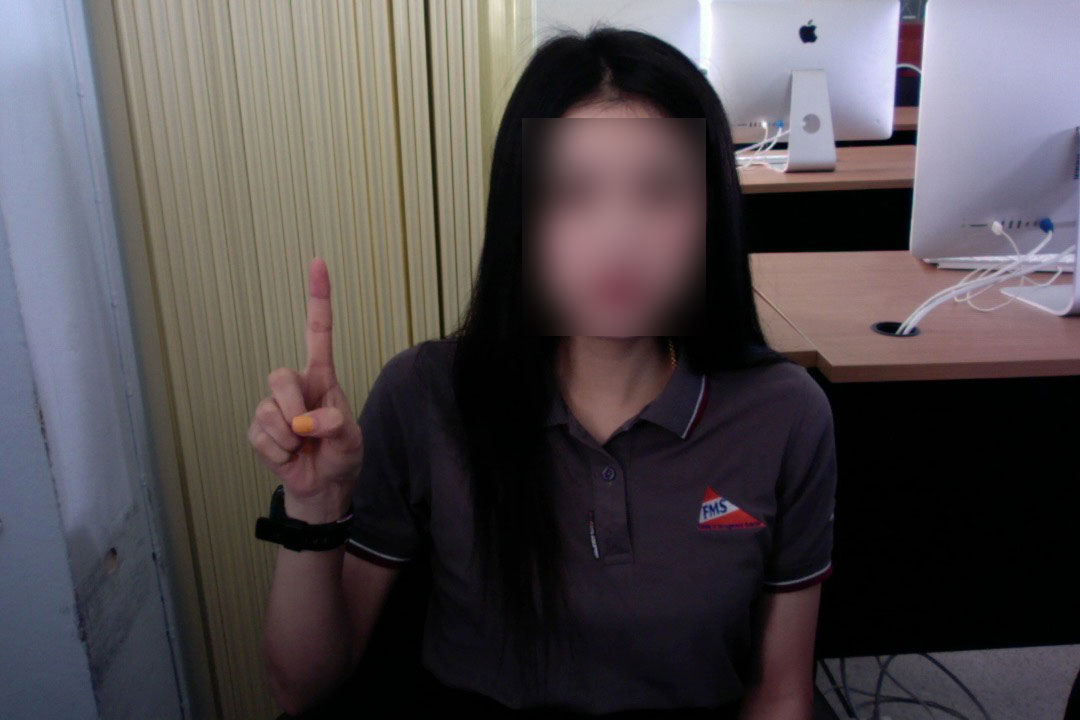dor: (242, 250, 370, 510)
